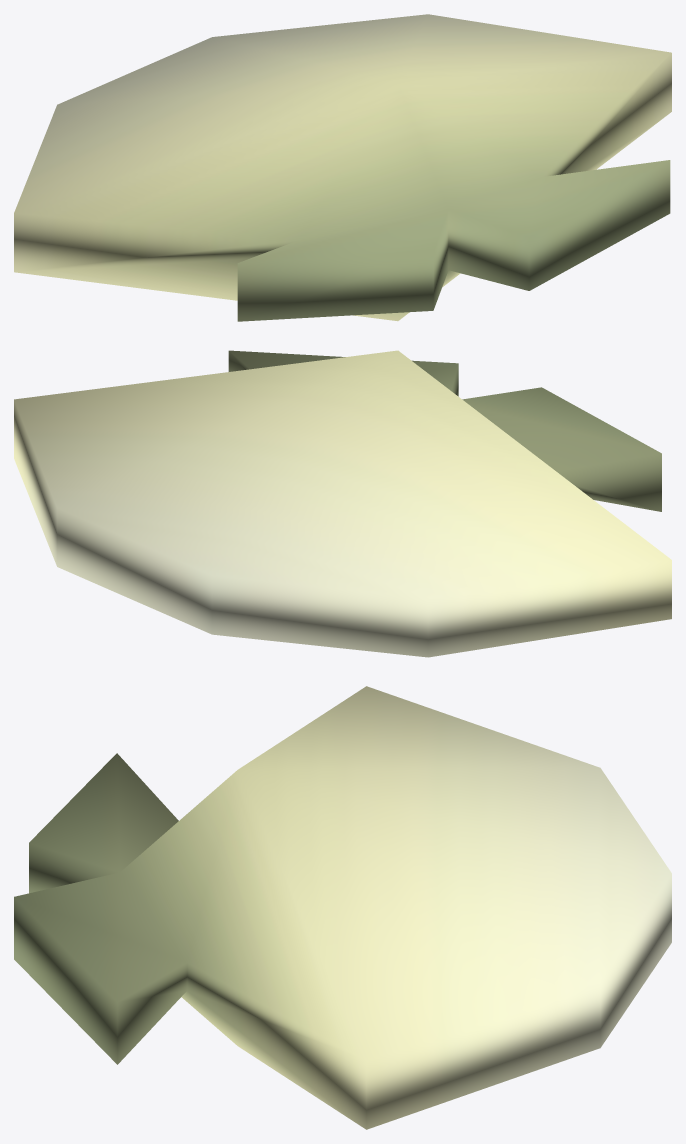
The model's file is shell_flat.fbx.
3 renders of one model, top to bottom at view 1: azimuth 30°, elevation 25°; view 2: azimuth 150°, elevation 25°; view 3: azimuth 270°, elevation 25°, orthographic. The views are drawn at different scales.
Visible parts, largest first — view 1: Shell; view 2: Shell; view 3: Shell.
Boxes of the visible parts, box(x1,y1,x2,y2) form: Shell: box(14, 14, 671, 321); Shell: box(14, 350, 671, 657); Shell: box(14, 686, 671, 1129).
Bounding box in the file's own units: 0.7632 × 0.2625 × 0.5664.
Materials: 1 (1 with a texture image).
